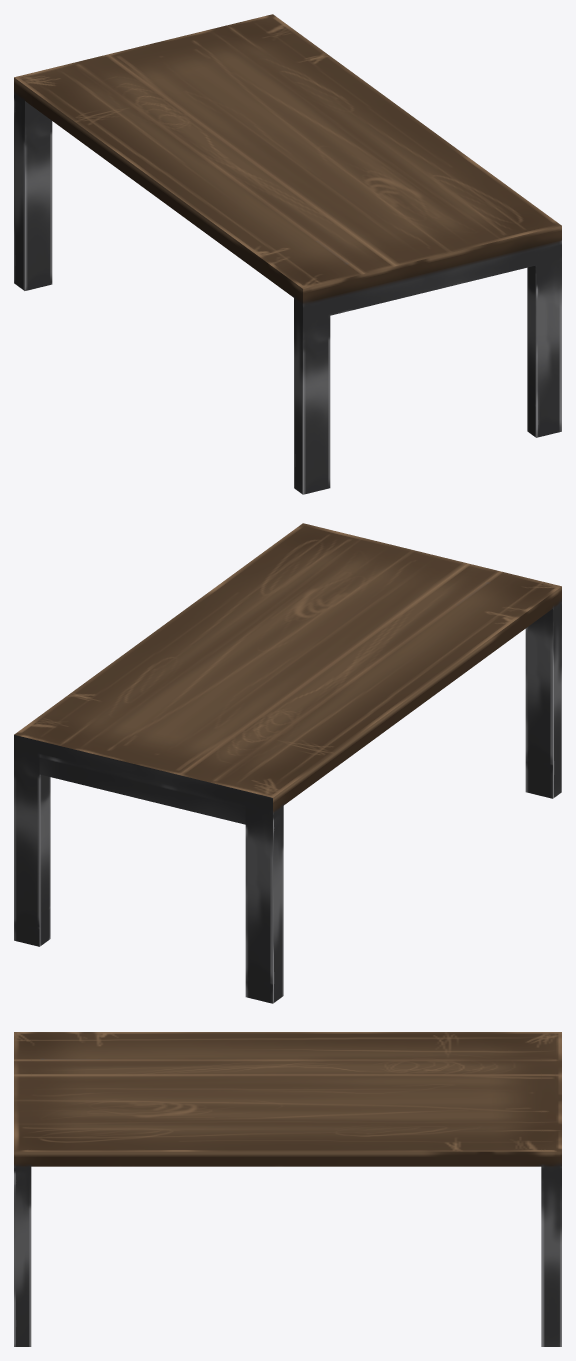
Rendered from pc desk.fbx.
The picture shows the model from 3 angles, top to bottom: view 1: azimuth 30°, elevation 25°; view 2: azimuth 150°, elevation 25°; view 3: azimuth 270°, elevation 25°; orthographic projection. The views are drawn at different scales.
Parts seen in each view (by area): view 1: polySurface98; view 2: polySurface98; view 3: polySurface98.
Part boxes in pixels (<box>): polySurface98: <box>14,14,561,494</box>; polySurface98: <box>14,523,561,1003</box>; polySurface98: <box>14,1032,561,1346</box>.
Size of the model in its own units: 144 by 109 by 278.
